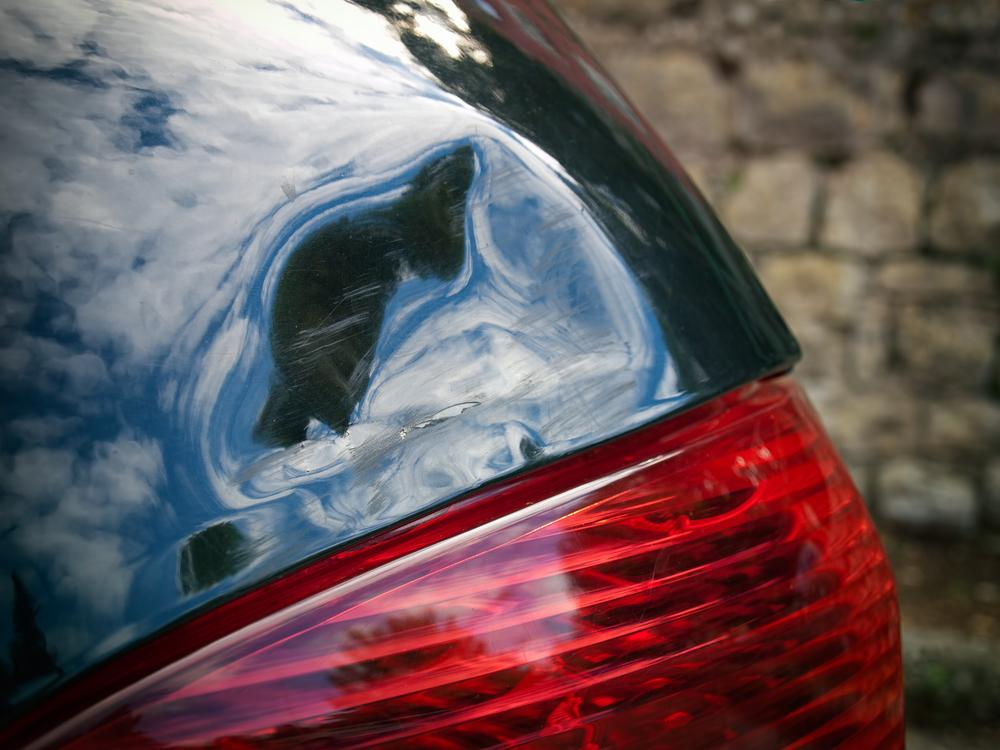dent: (221, 136, 657, 524)
